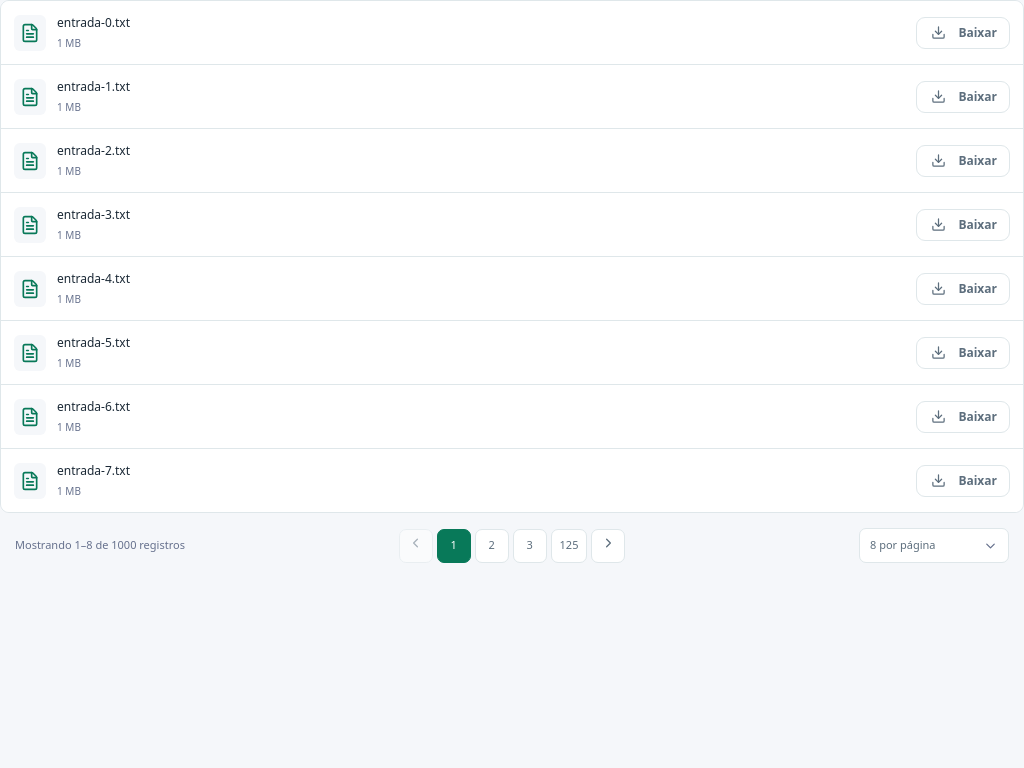
Pedidos e resultados › pagina mil anexos sem renderizar toda a lista de uma vez
Expected: the text "entrada-0.txt" is shown, left=57, top=14, right=130, bottom=31
Click the button named "Próxima página". click: coordinates (608, 546)
box: left=591, top=528, right=625, bottom=562
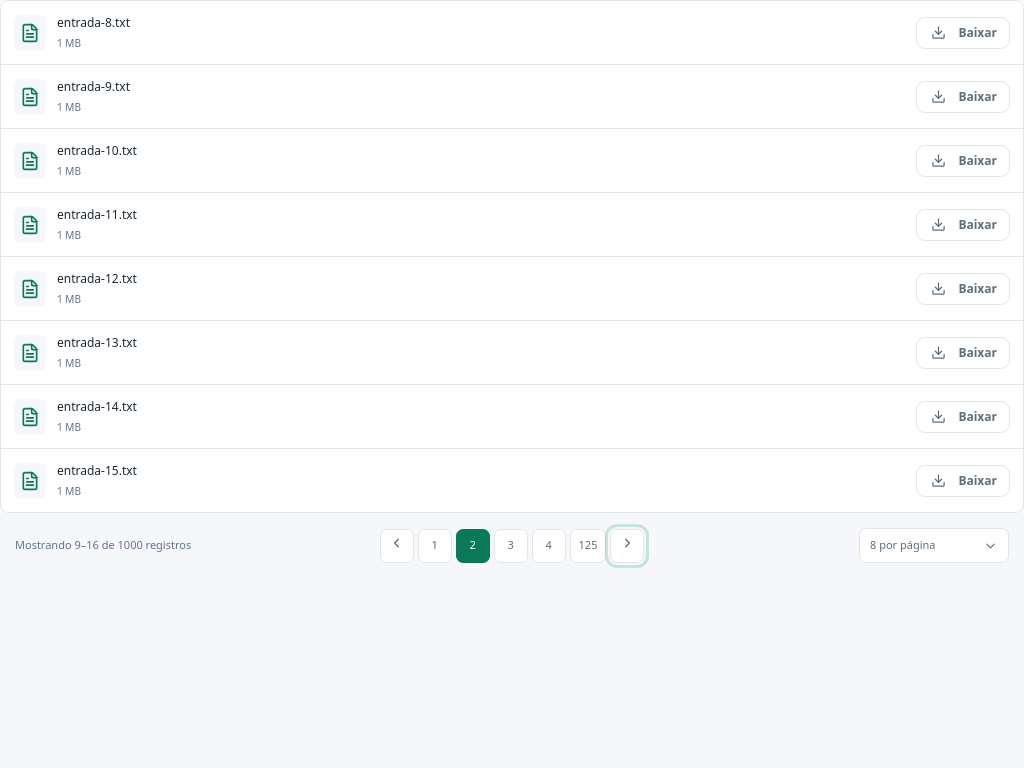
Expected: the text "entrada-0.txt" is gone
Expected: the text "entrada-8.txt" is shown, left=57, top=14, right=130, bottom=31
